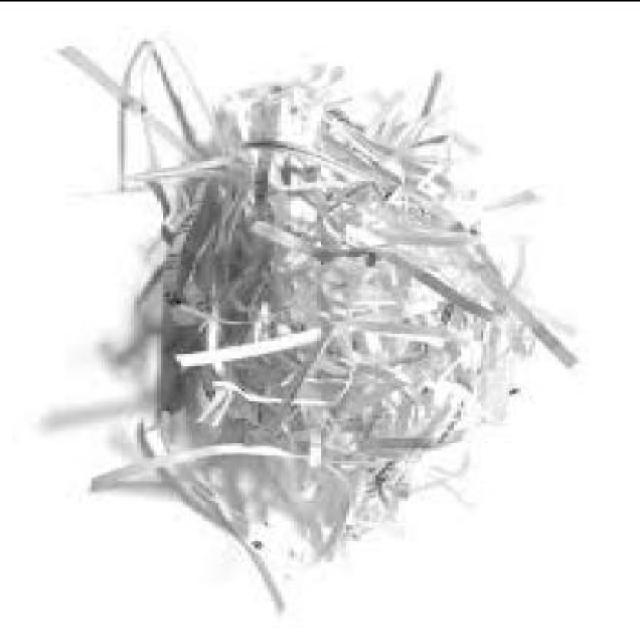PAPER: (62, 37, 588, 612)
